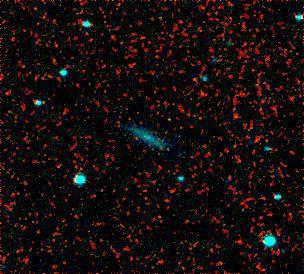star: (152, 108, 182, 138)
